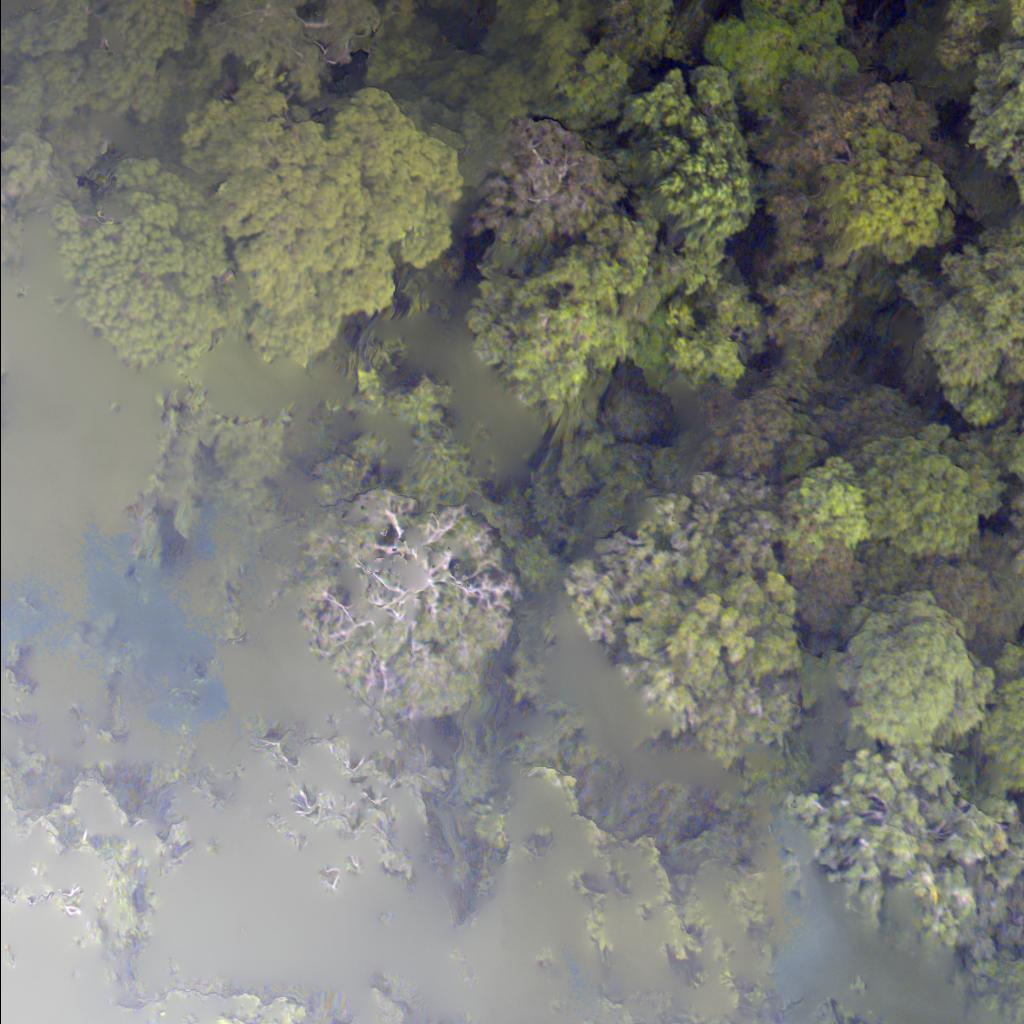crown: (208, 90, 460, 381), (468, 215, 659, 422), (459, 119, 644, 280), (618, 59, 757, 264), (899, 234, 1023, 425), (621, 259, 778, 386), (840, 602, 961, 750), (709, 0, 862, 109), (965, 24, 1023, 191), (975, 649, 1023, 788), (493, 0, 555, 16)
